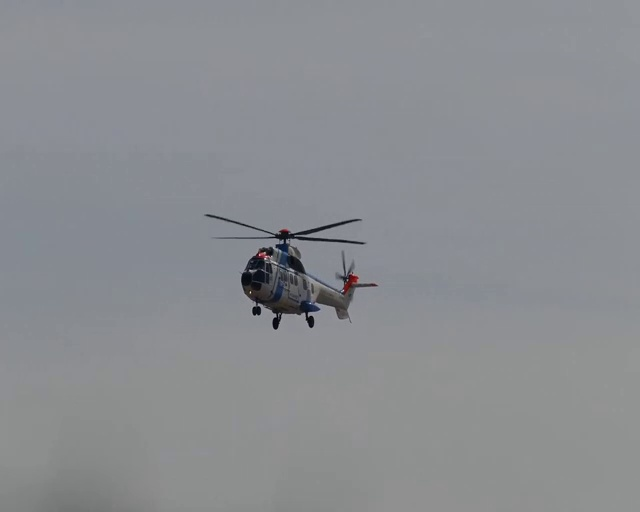HELICOPTER: (206, 213, 379, 330)
